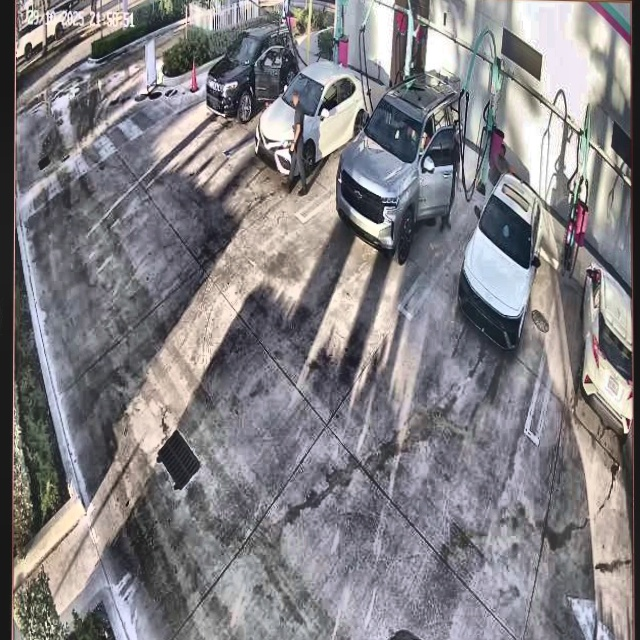Car: (336, 71, 457, 270), (460, 173, 545, 348), (255, 65, 371, 172)
